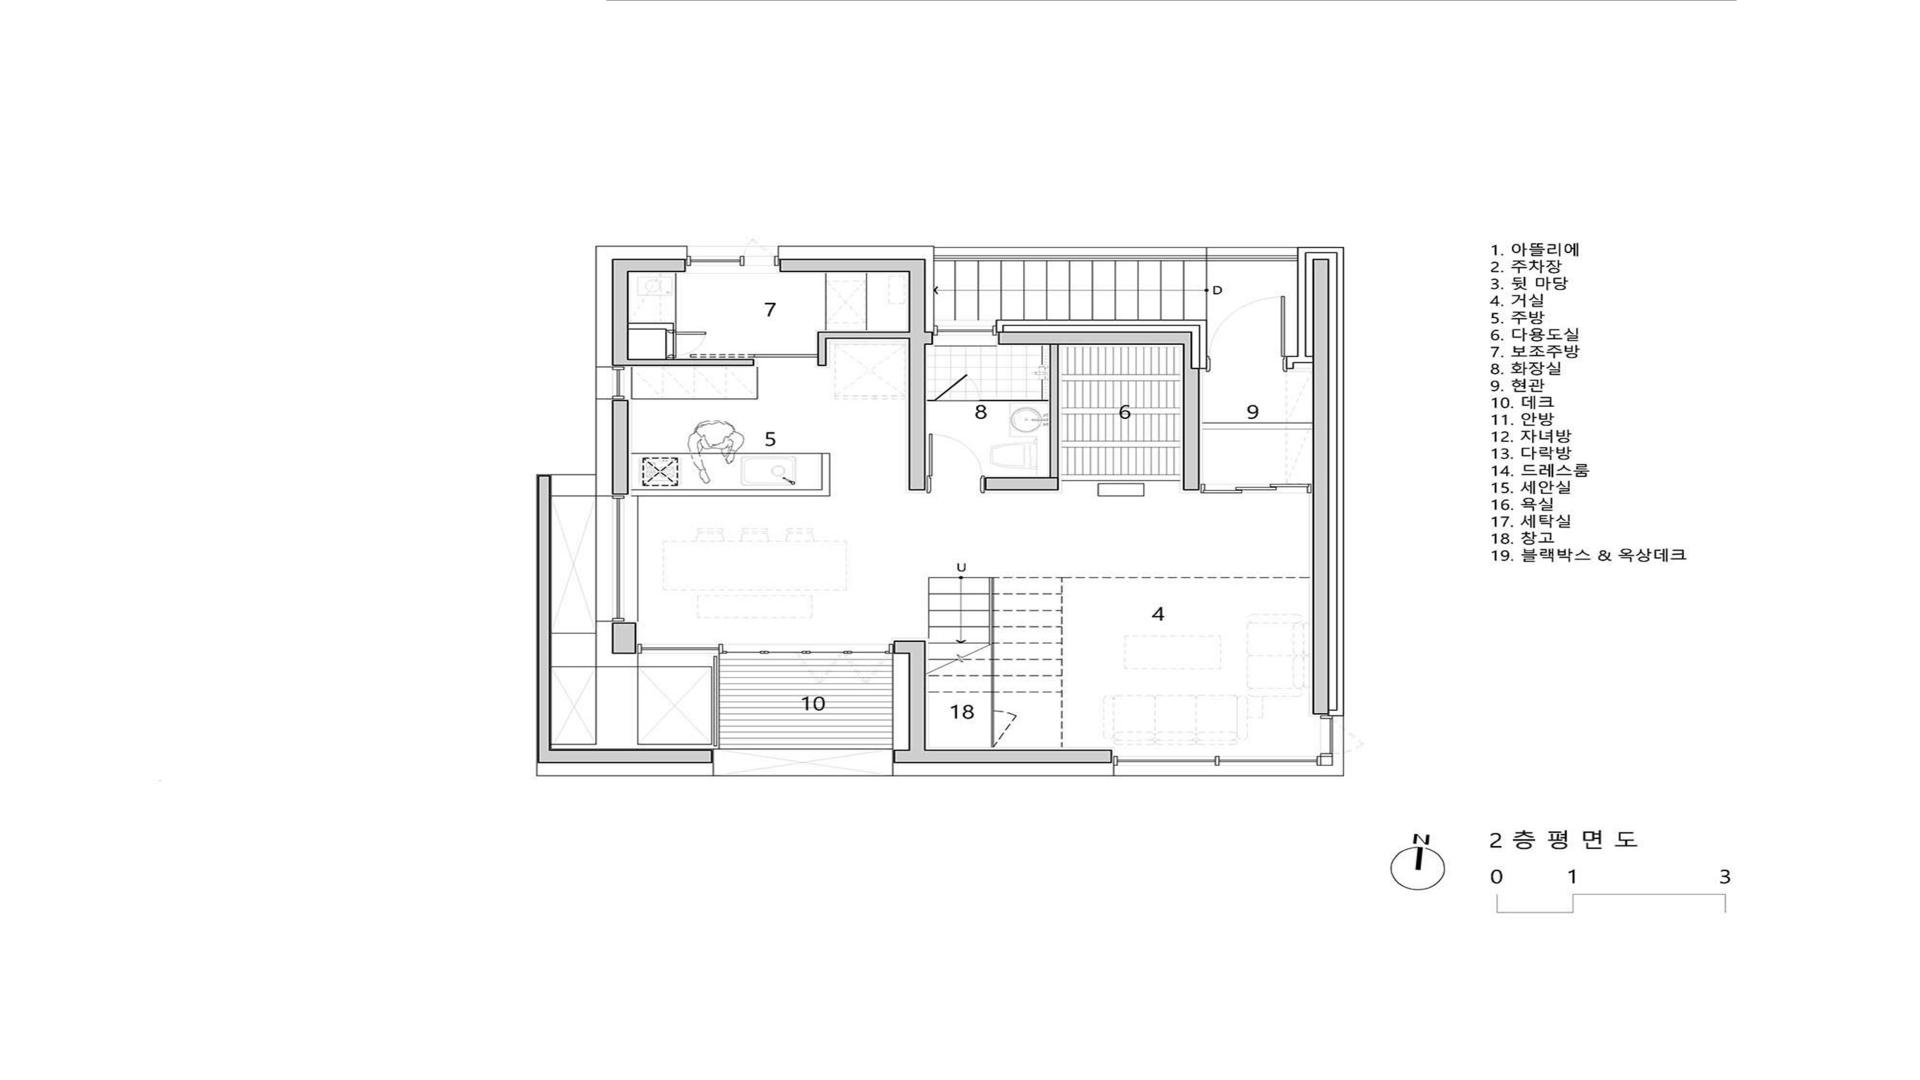door: (1207, 295, 1287, 372), (926, 434, 985, 493), (665, 330, 708, 359), (1200, 484, 1313, 495), (990, 709, 1019, 749), (753, 355, 818, 367)
wall: (1312, 258, 1344, 716), (893, 749, 1113, 777), (537, 749, 713, 777), (537, 475, 553, 749), (779, 245, 935, 273), (909, 272, 926, 491), (935, 247, 1298, 256), (595, 400, 629, 496), (595, 273, 629, 359), (997, 331, 1192, 345), (595, 245, 687, 273), (996, 319, 1199, 331), (1183, 368, 1200, 491), (909, 654, 926, 750), (595, 359, 754, 367), (1050, 345, 1059, 477), (1296, 247, 1307, 356), (553, 473, 596, 496), (985, 477, 1059, 491), (612, 621, 637, 654), (816, 331, 909, 339), (926, 272, 935, 331), (990, 578, 994, 709), (894, 641, 926, 654), (1199, 319, 1207, 368), (629, 322, 674, 330), (1287, 356, 1312, 369), (816, 339, 827, 367), (1183, 344, 1192, 368), (1307, 247, 1336, 253), (926, 331, 934, 345), (1336, 247, 1344, 258)
window: (1113, 715, 1344, 777), (595, 496, 638, 622), (721, 644, 894, 654), (686, 245, 744, 273), (934, 324, 997, 347), (744, 239, 779, 273), (596, 367, 625, 400), (637, 644, 721, 654)
